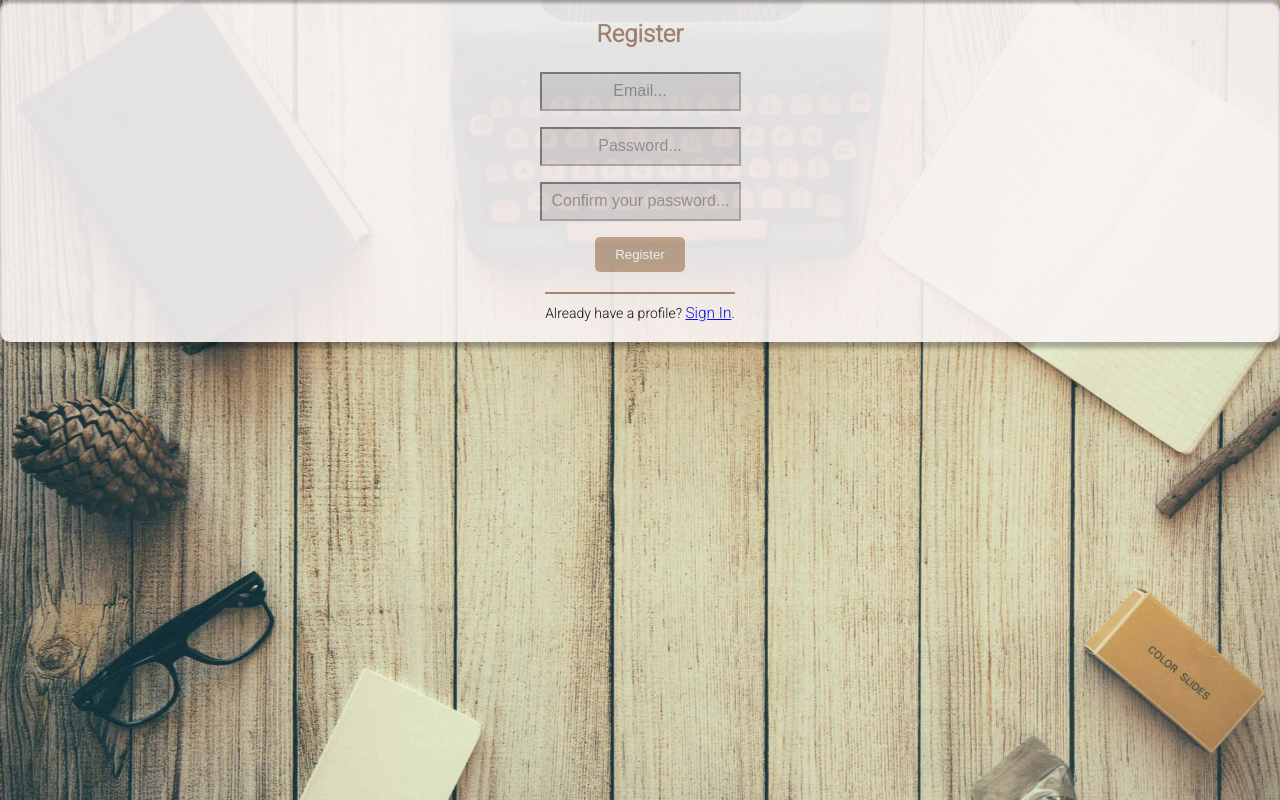
Scenario: Register Page Test › Displays error for incomplete registration form submission(Password don't match!
Step 1. Type "incorect@gmail.com" into the field with placeholder "Email..." → (640, 92), box [540,72,740,111]
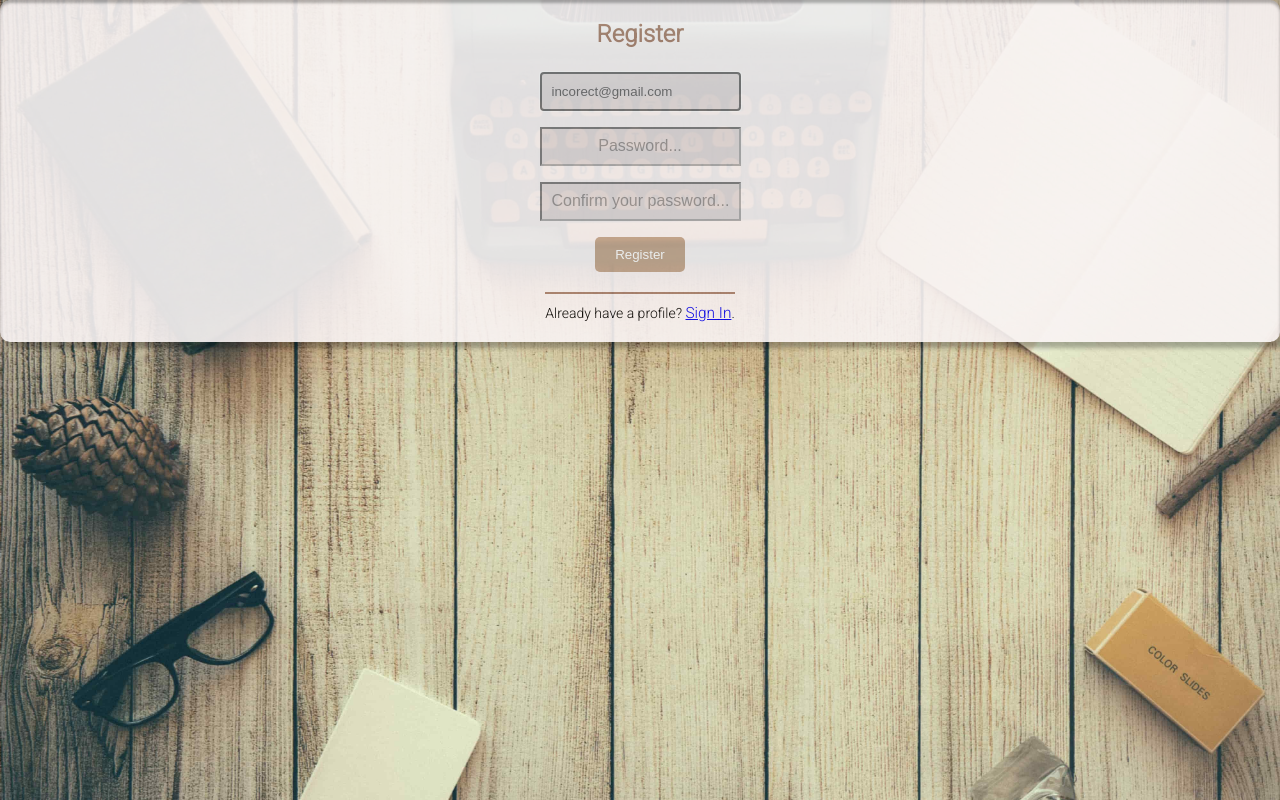
Step 2. Type "incorect" into the password field with placeholder "Password..." → (640, 146), box [540,127,740,166]
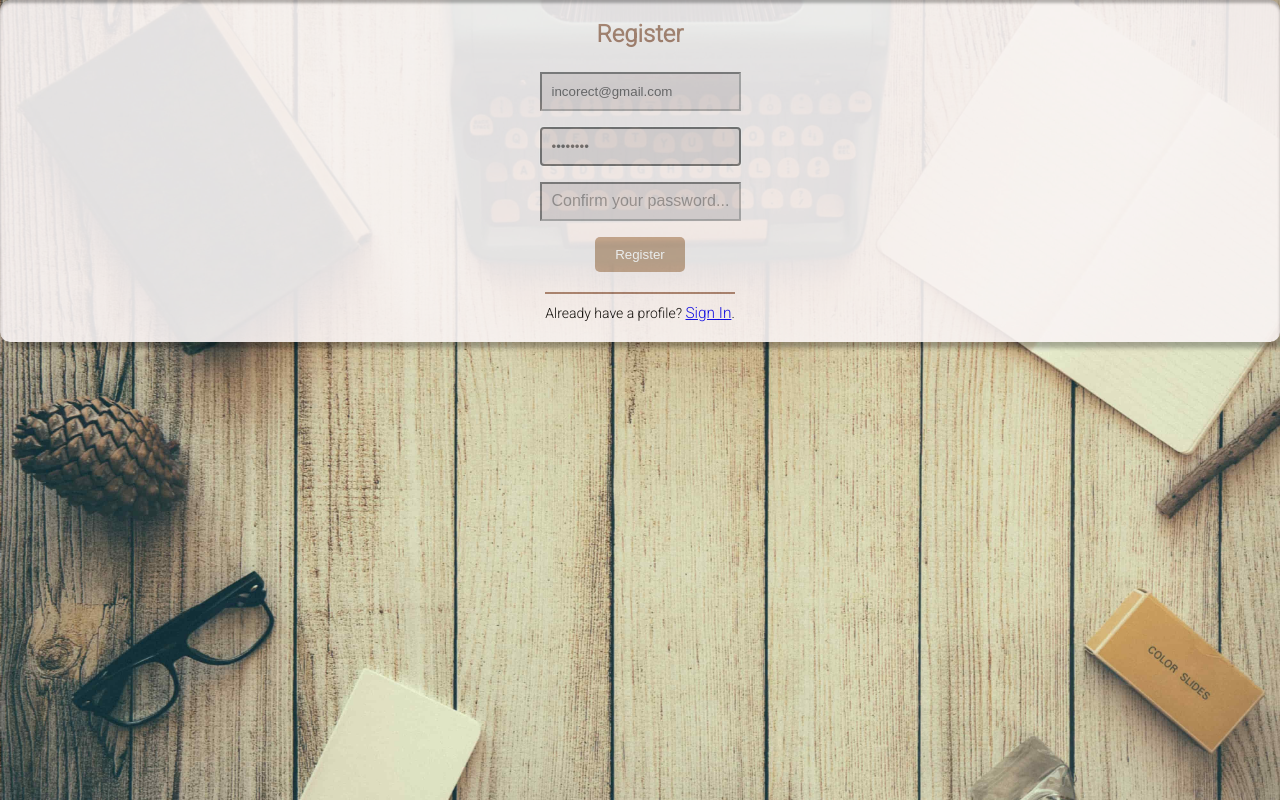
Step 3. Type "incorect1" into the password field with placeholder "Confirm your password..." → (640, 202), box [540,182,740,221]
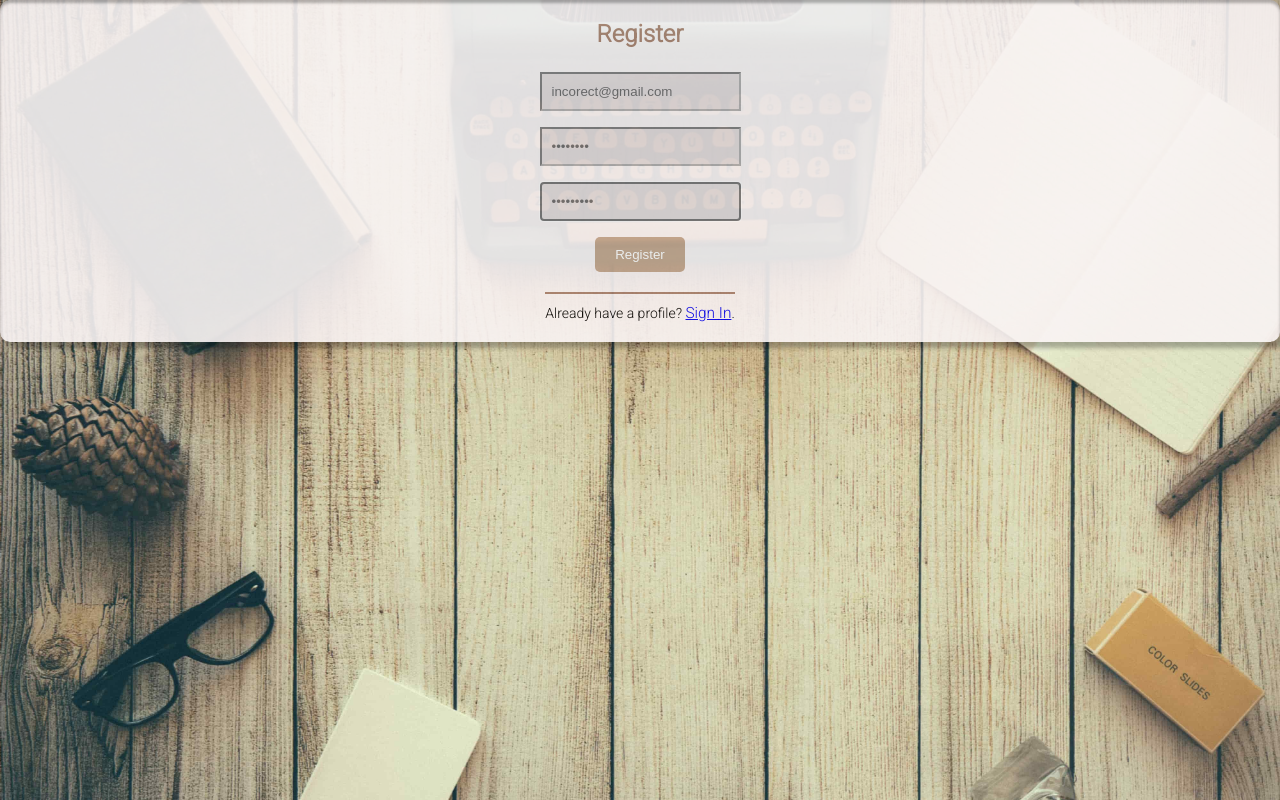
Step 4. Click the button "Register" → (640, 254), box [595,237,685,272]
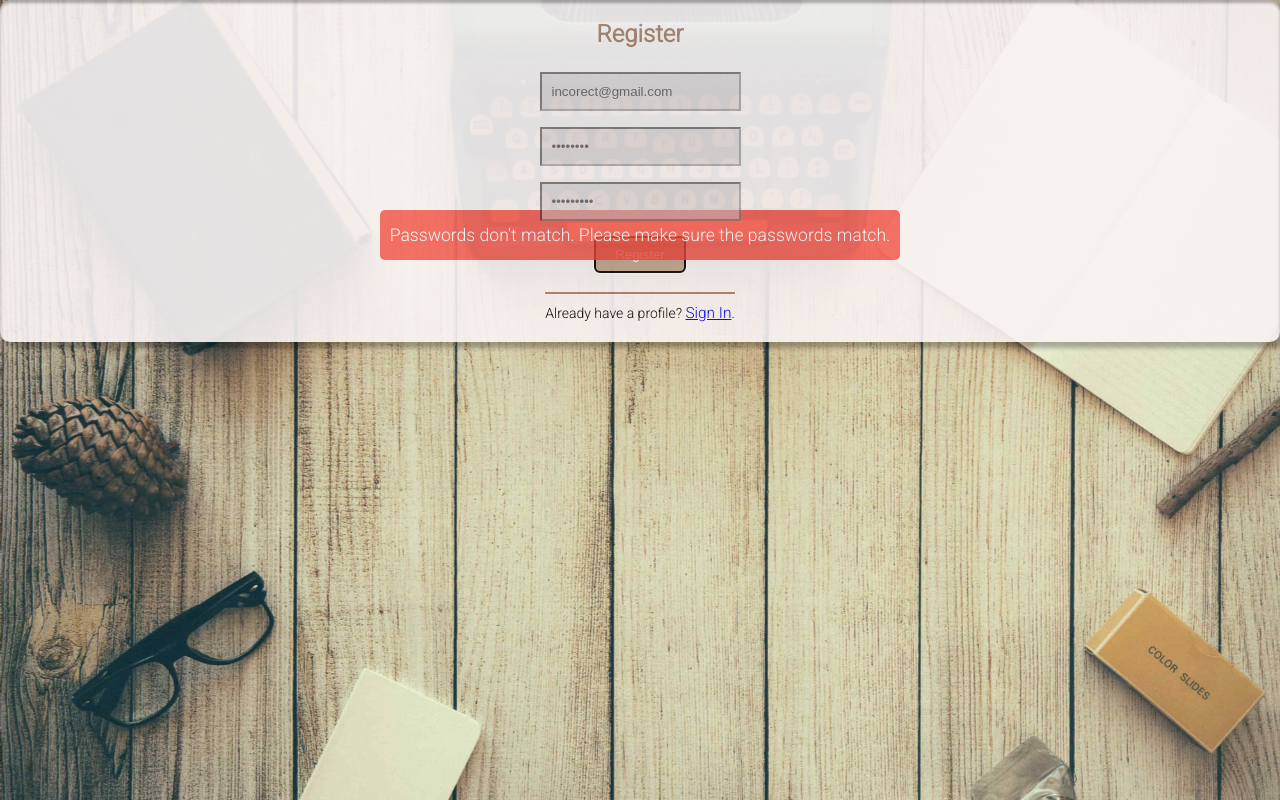
Now the text "Passwords don't match. Please make sure the passwords match." is shown, box [390,225,890,245]
